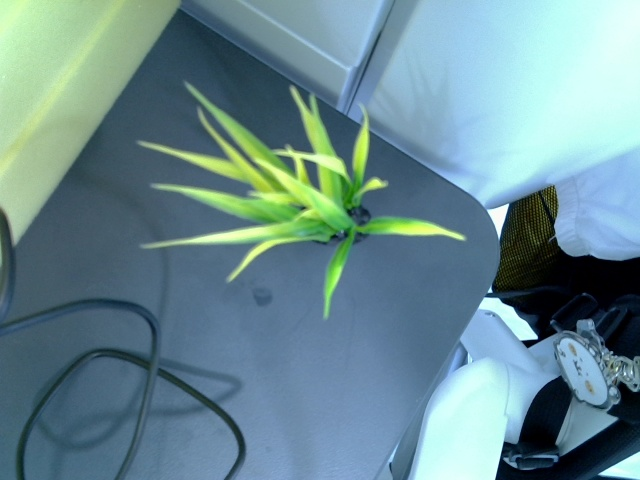해바라기새싹: (168, 83, 461, 303)
